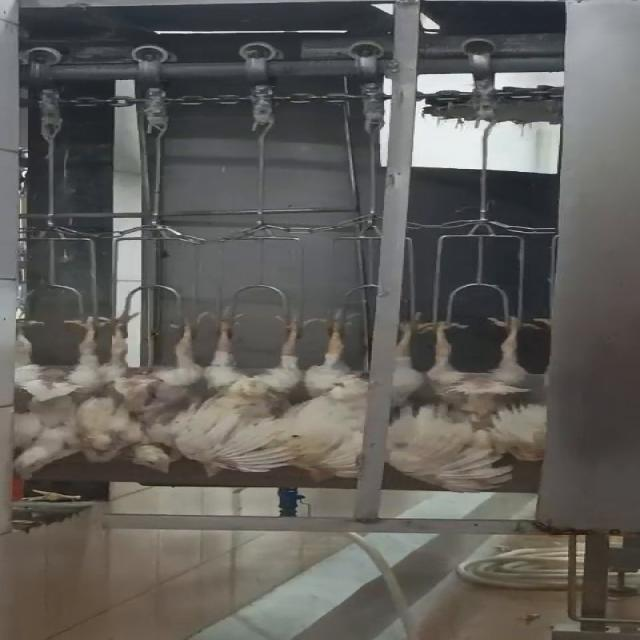chicken: (391, 310, 549, 496), (171, 307, 317, 481), (94, 304, 214, 476), (0, 296, 101, 481), (274, 309, 376, 481)
